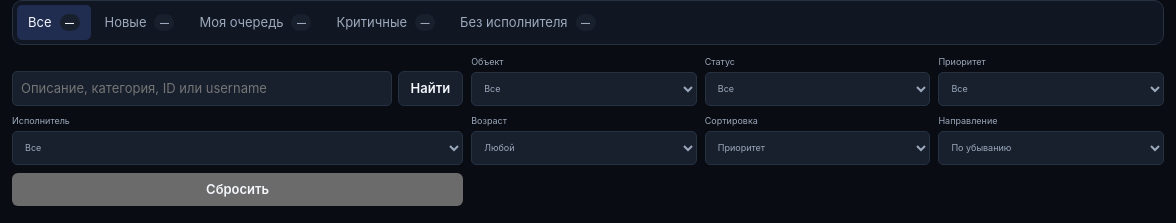
Test: QueueFilters › clears an unsubmitted draft on reset
In the field named "Поиск жалоб": (202, 88) x1=12 y1=71 x2=392 y2=106, type "draft"
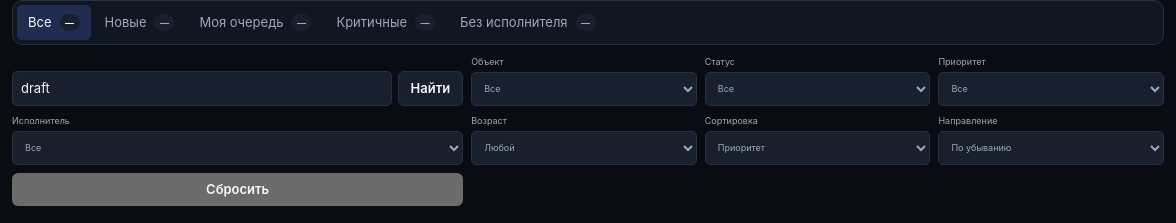
Click the button "Сбросить": (238, 189) x1=12 y1=173 x2=463 y2=206
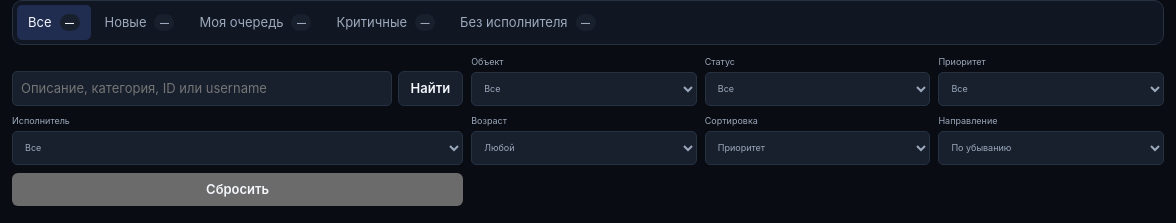
Now the field named "Поиск жалоб" is empty, box x1=12 y1=71 x2=392 y2=106
